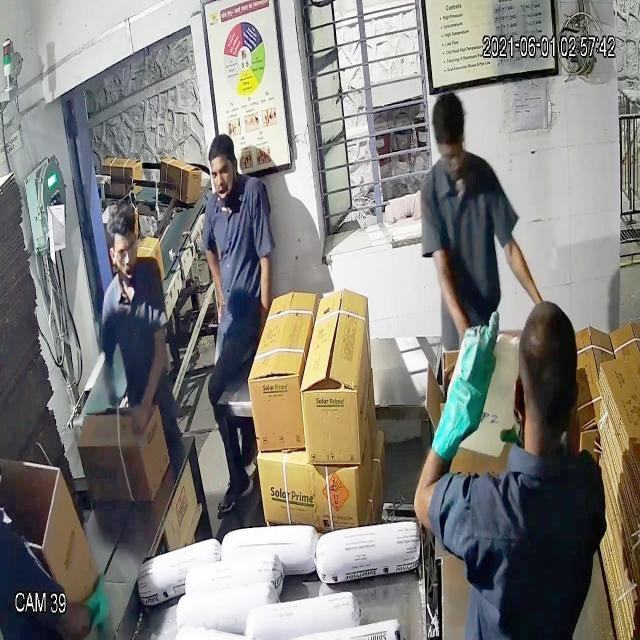hairnet: (215, 177, 240, 214), (116, 253, 139, 288)
